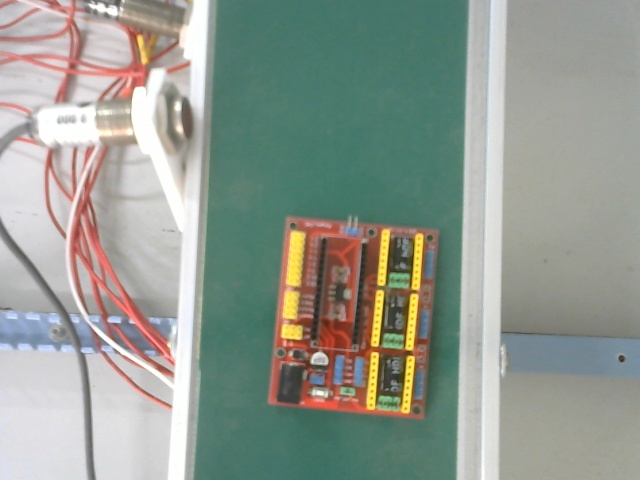IC: (325, 268, 352, 313)
capacitor: (377, 348, 408, 400), (389, 229, 416, 276), (382, 291, 410, 333), (305, 343, 333, 374)
connector: (281, 226, 310, 342), (277, 357, 305, 409)
